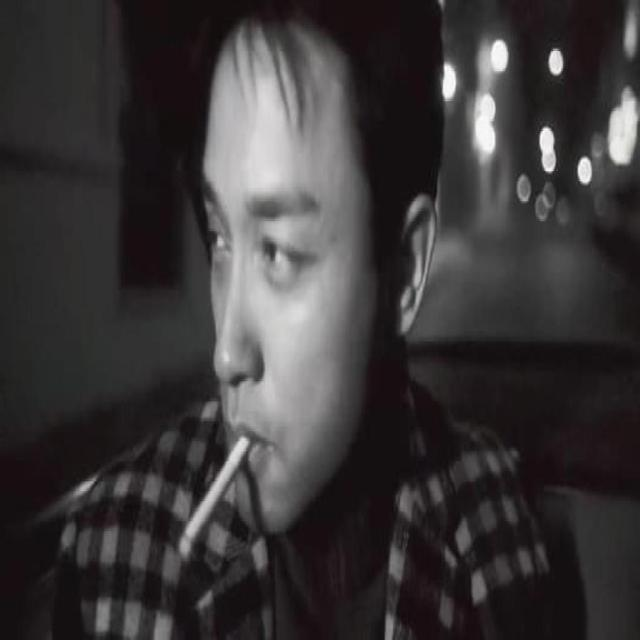smoking: (178, 1, 436, 562)
